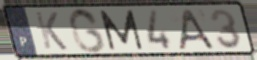3: (208, 7, 244, 51)
4: (145, 8, 173, 51)
A: (177, 8, 217, 51)
G: (66, 7, 108, 55)
K: (33, 10, 70, 52)
M: (97, 8, 146, 52)
